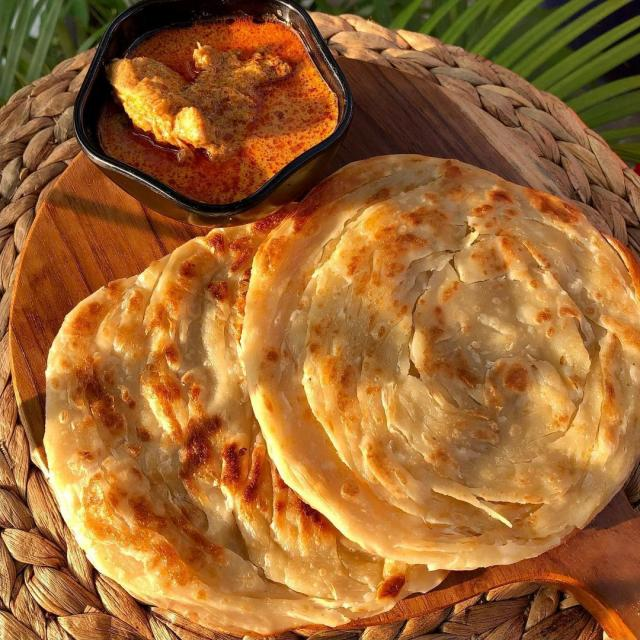Paratha: (46, 211, 404, 621), (258, 159, 635, 491)
